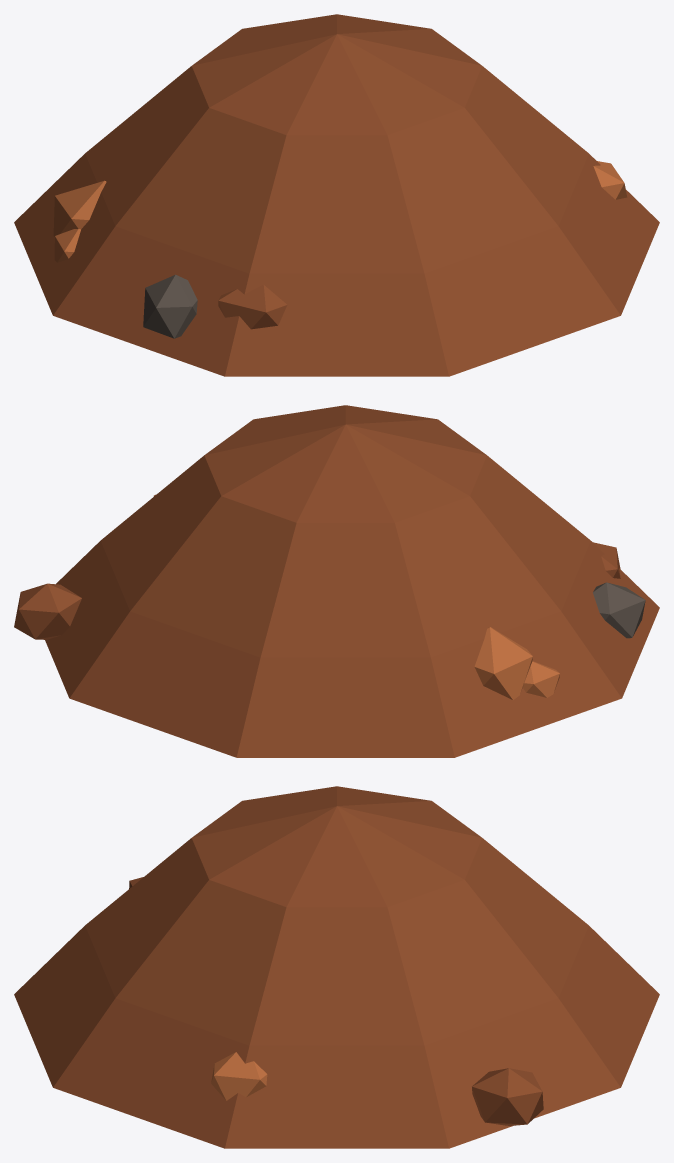
The model's file is mine_ore_pile_iron.glb.
The picture shows the model from 3 angles, top to bottom: view 1: azimuth 30°, elevation 25°; view 2: azimuth 150°, elevation 25°; view 3: azimuth 270°, elevation 25°; orthographic projection. The views are drawn at different scales.
Parts seen in each view (by area): view 1: mine_ore_pile_iron; view 2: mine_ore_pile_iron; view 3: mine_ore_pile_iron.
Part boxes in pixels (x1=…): mine_ore_pile_iron: x1=14, y1=14, x2=659, y2=376; mine_ore_pile_iron: x1=14, y1=405, x2=659, y2=757; mine_ore_pile_iron: x1=14, y1=786, x2=659, y2=1148.
Size of what is drawn, in the model's own units: 1.36 by 0.5 by 1.38.
